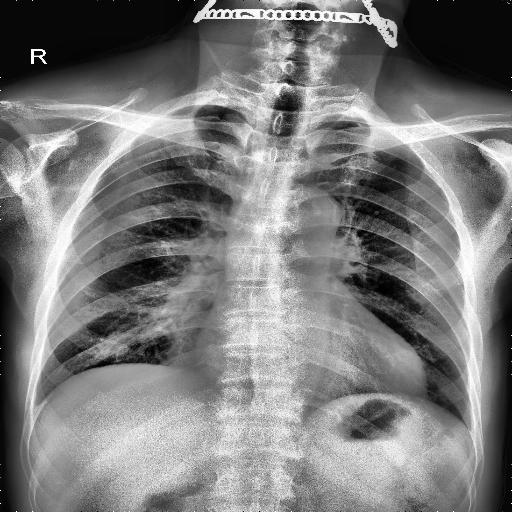0- Aortic enlargement: (271, 184, 340, 248), (276, 182, 337, 251)
3- Cardiomegaly: (193, 324, 427, 400)
